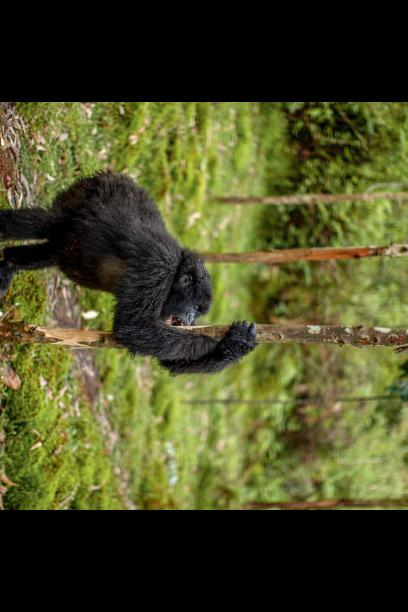goriile_montagne: (0, 138, 273, 387)
